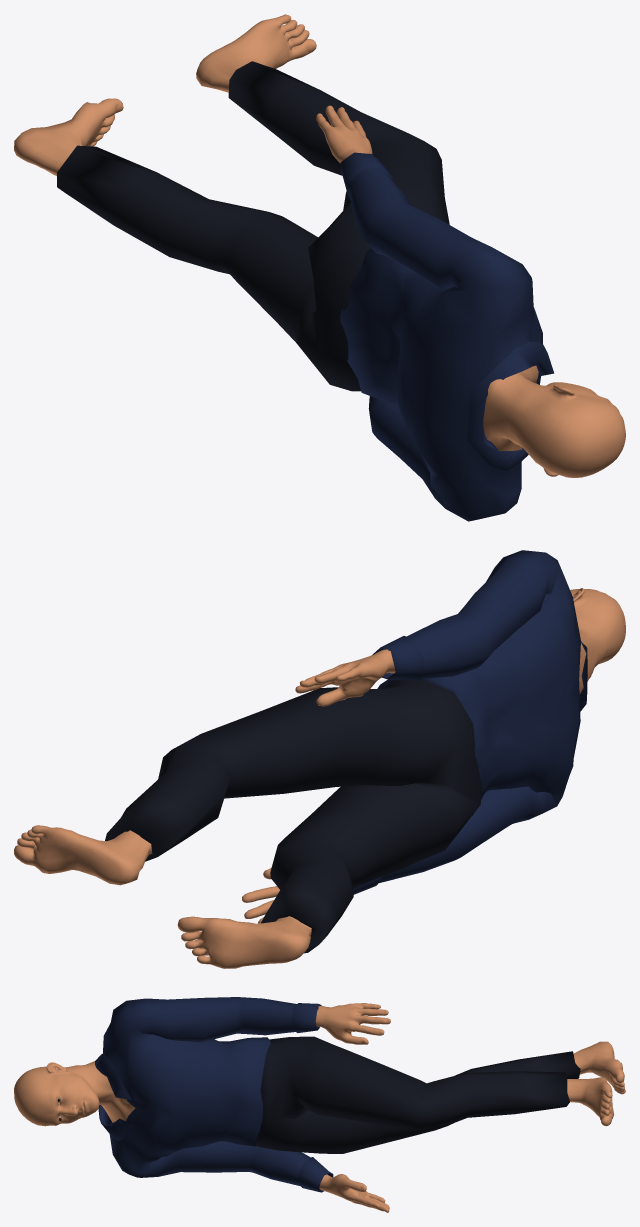
File: walk.obj
3 renders of one model, top to bottom at view 1: azimuth 30°, elevation 25°; view 2: azimuth 150°, elevation 25°; view 3: azimuth 270°, elevation 25°, orthographic. The views are drawn at different scales.
Bounding box in the file's own units: 0.6323 × 0.5513 × 1.68.
